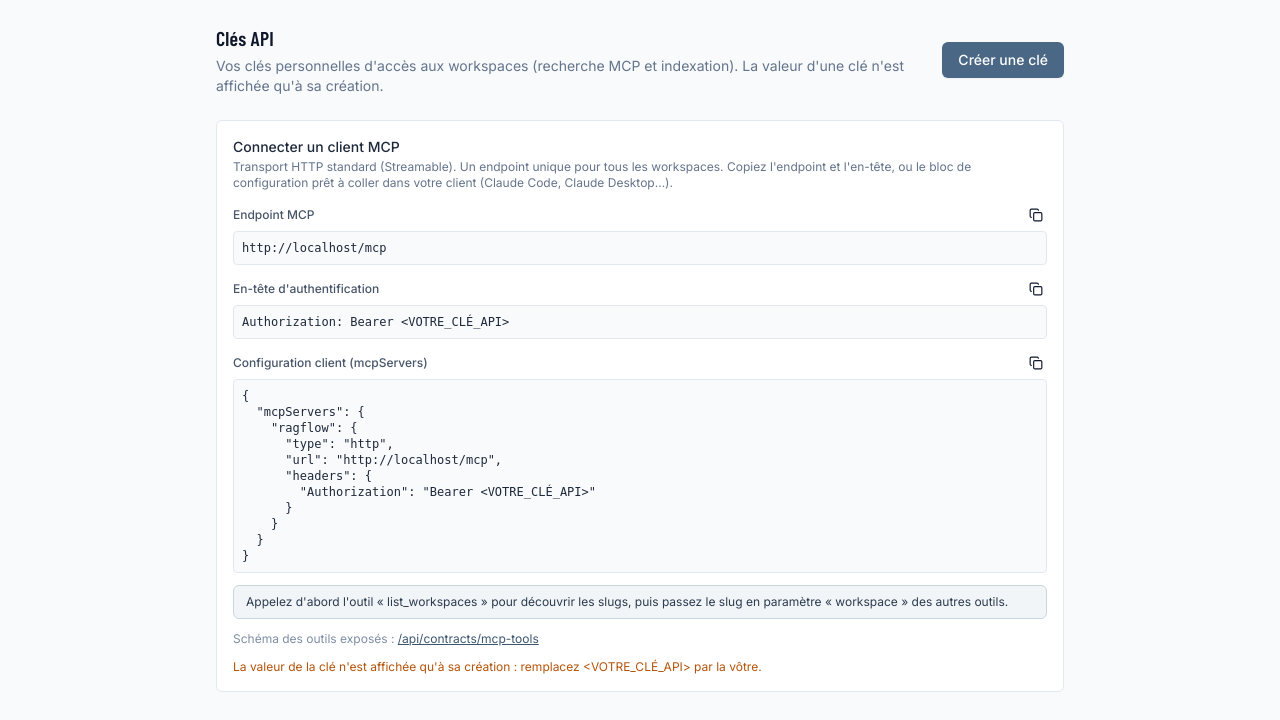
Test: ApiKeysPage › crée une clé et affiche la valeur une seule fois
Click the button "Créer une clé": (1003, 60) [942, 42, 1064, 78]
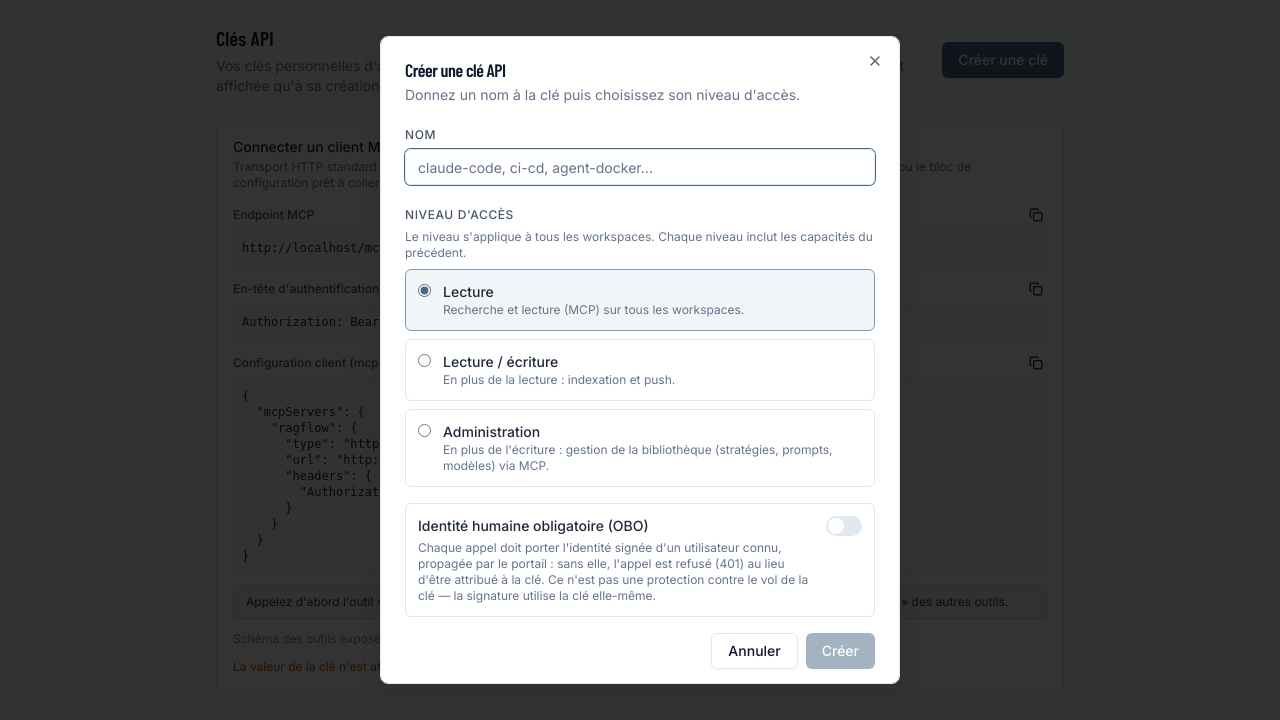
In the field with placeholder "claude-code, ci-cd, agent-docker…": (640, 167) [405, 149, 875, 185], type "nouvelle"
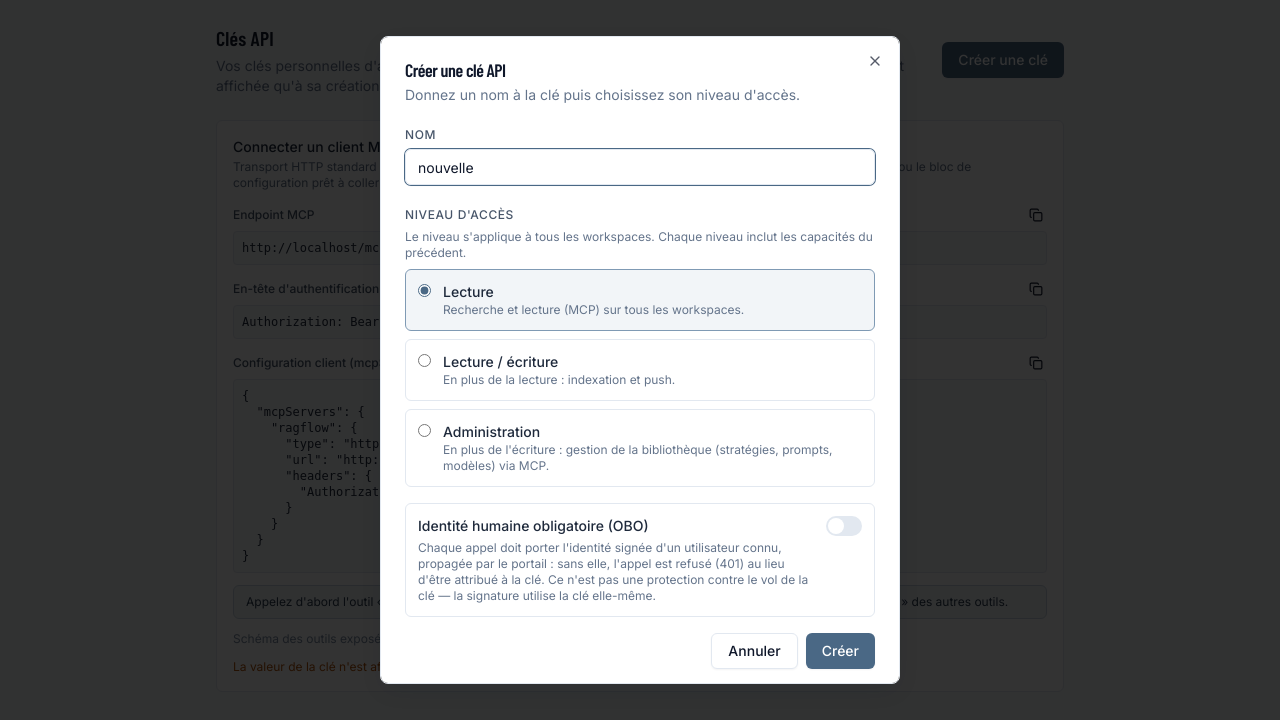
Click the button "Créer": (840, 651) [806, 633, 875, 669]
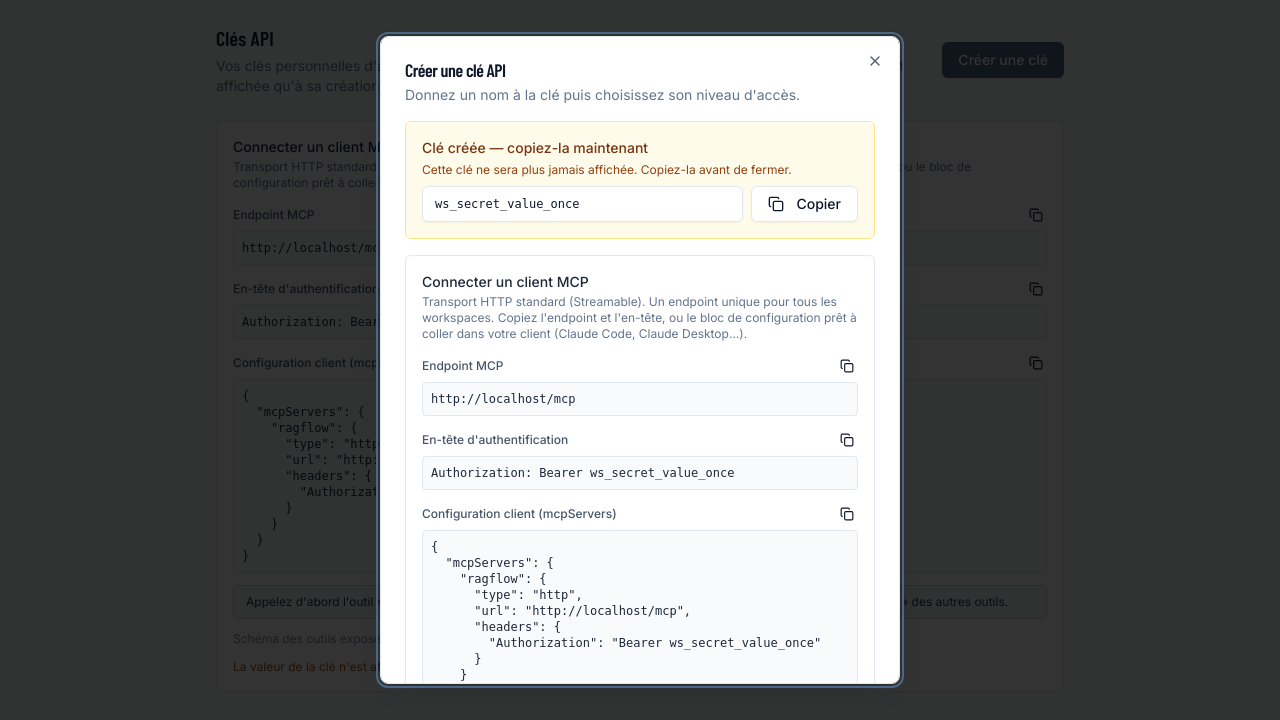
Check: the field showing "ws_secret_value_once" is shown, box [422, 186, 744, 222]
